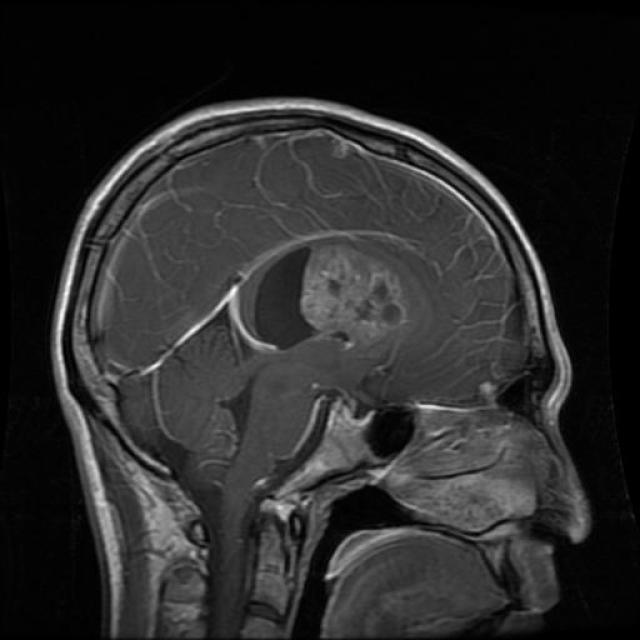glioma: (230, 232, 410, 348)
